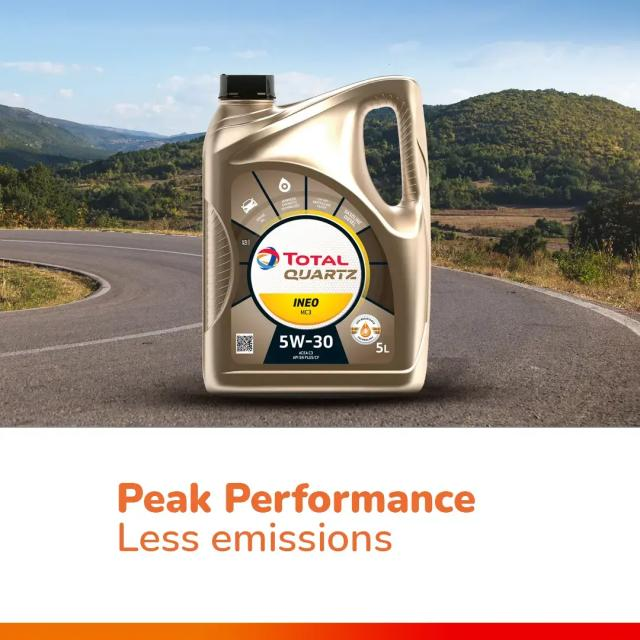motor_oil: (196, 68, 434, 401)
